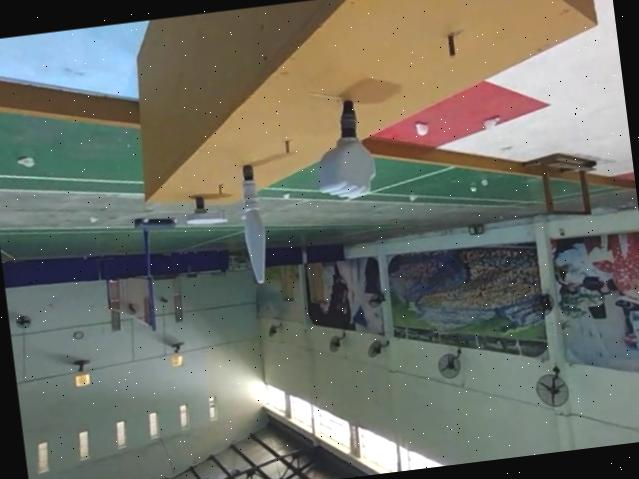Fist: (307, 96, 380, 201)
Hand: (182, 194, 223, 229)
Sph: (233, 161, 275, 285)
